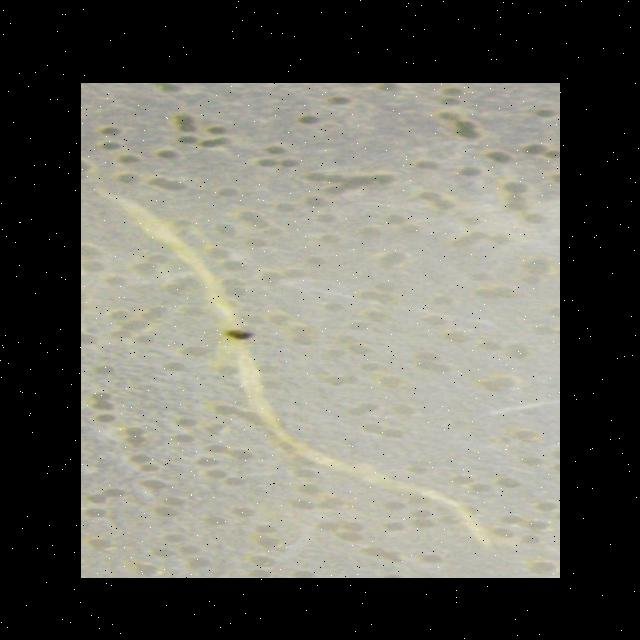Fibre: (80, 178, 548, 552)
